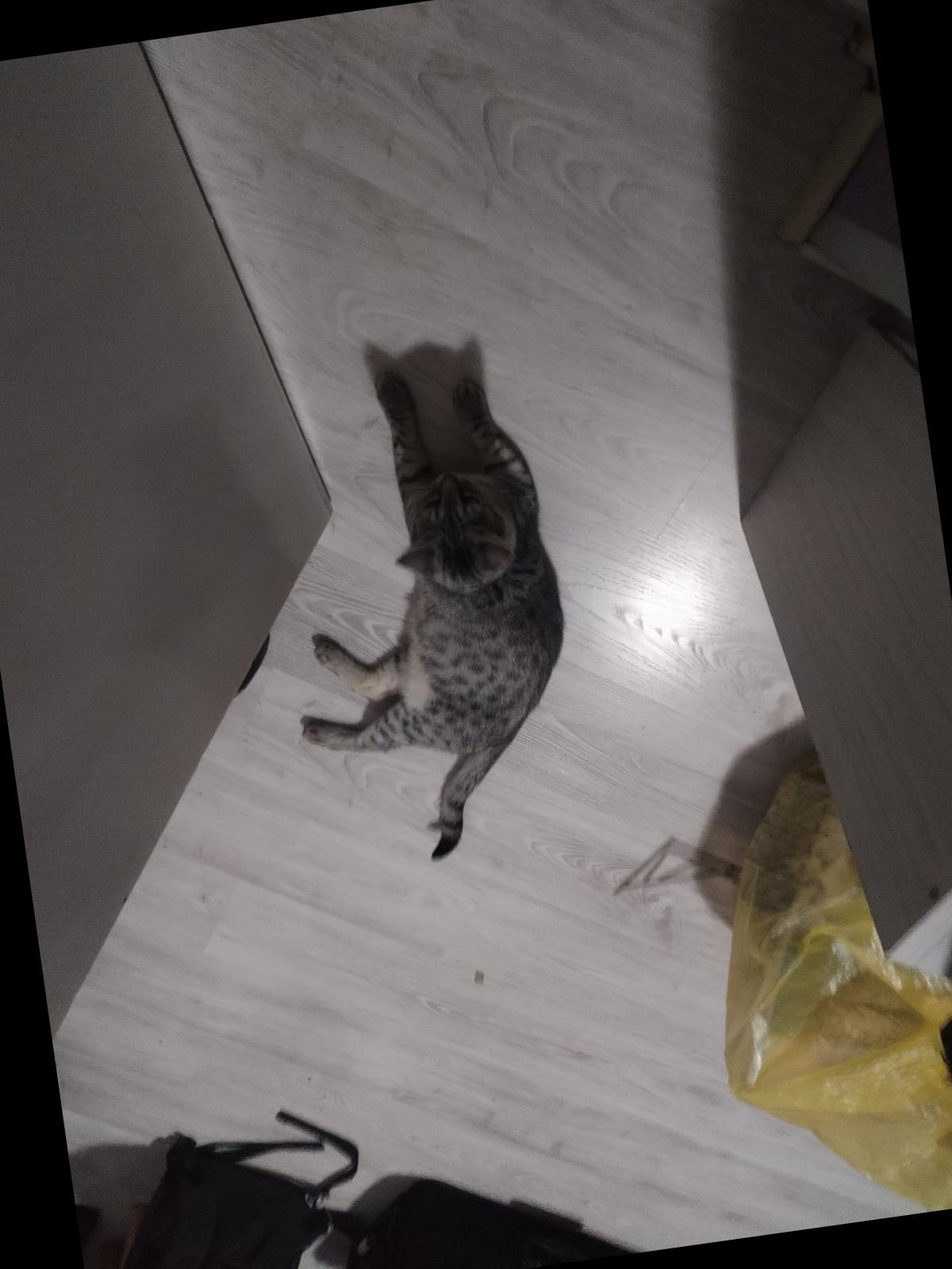macka: (251, 352, 597, 876)
